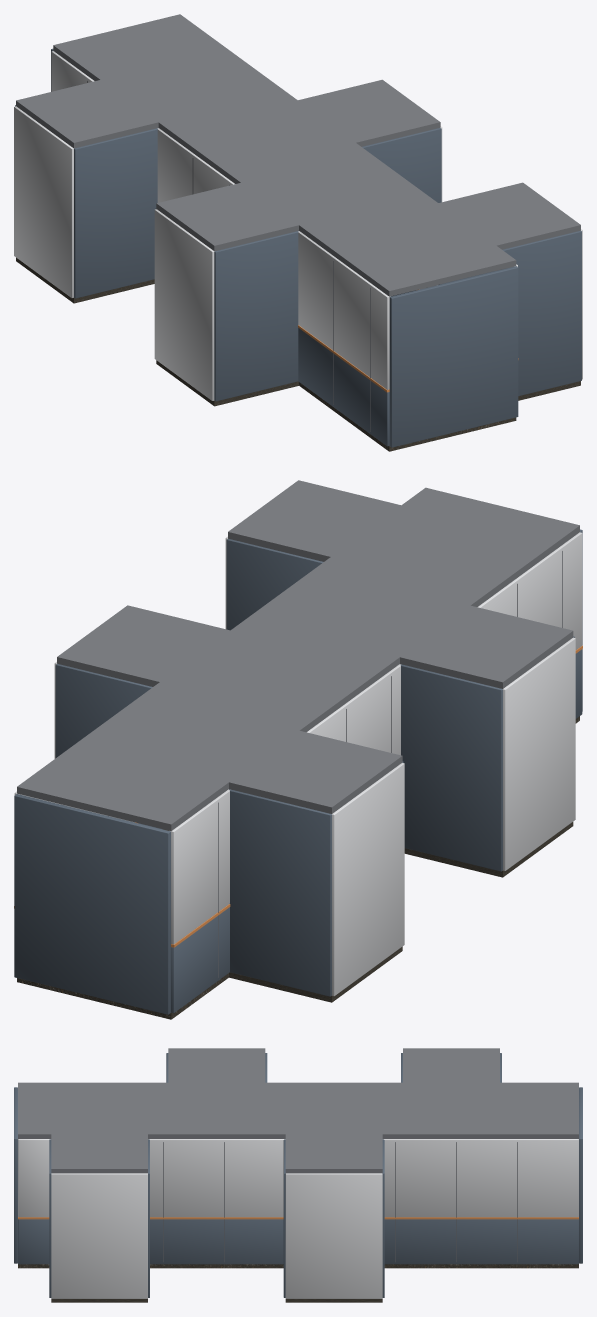
File: corridor.glb
3 views of the same model, one above another, from view 1: azimuth 30°, elevation 25°; view 2: azimuth 150°, elevation 25°; view 3: azimuth 270°, elevation 25° (orthographic). The views are drawn at different scales.
Visible parts, largest first — view 1: CORR_static, CORR_detail; view 2: CORR_static; view 3: CORR_static, CORR_detail.
Boxes of the visible parts, x1=… form: CORR_static: x1=14, y1=14, x2=582, y2=451; CORR_detail: x1=87, y1=81, x2=518, y2=431; CORR_static: x1=14, y1=480, x2=582, y2=1019; CORR_static: x1=14, y1=1048, x2=582, y2=1302; CORR_detail: x1=18, y1=1142, x2=578, y2=1262.
Size of the model in its own units: 5.68 by 2.9 by 11.16.
Materials: 20 (1 with a texture image).
